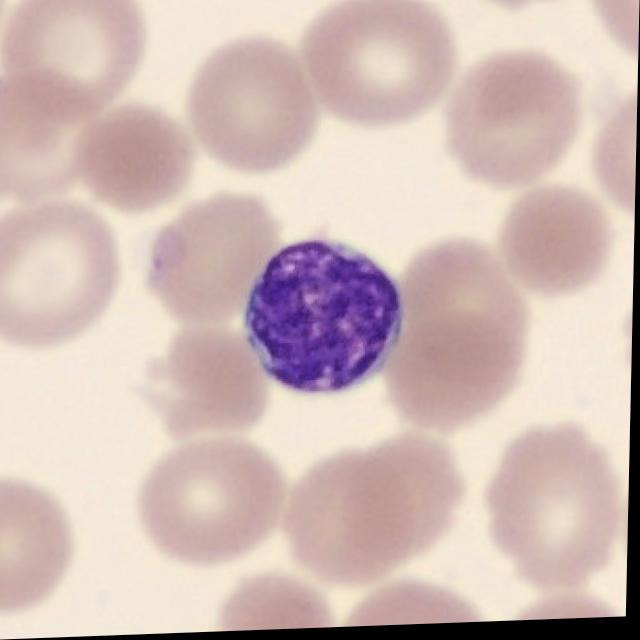Linfocito: (246, 243, 404, 398)
